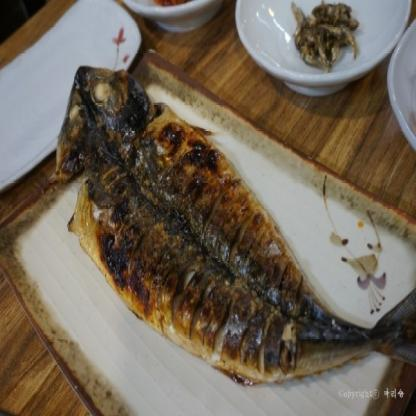Peixe: (45, 57, 416, 381)
